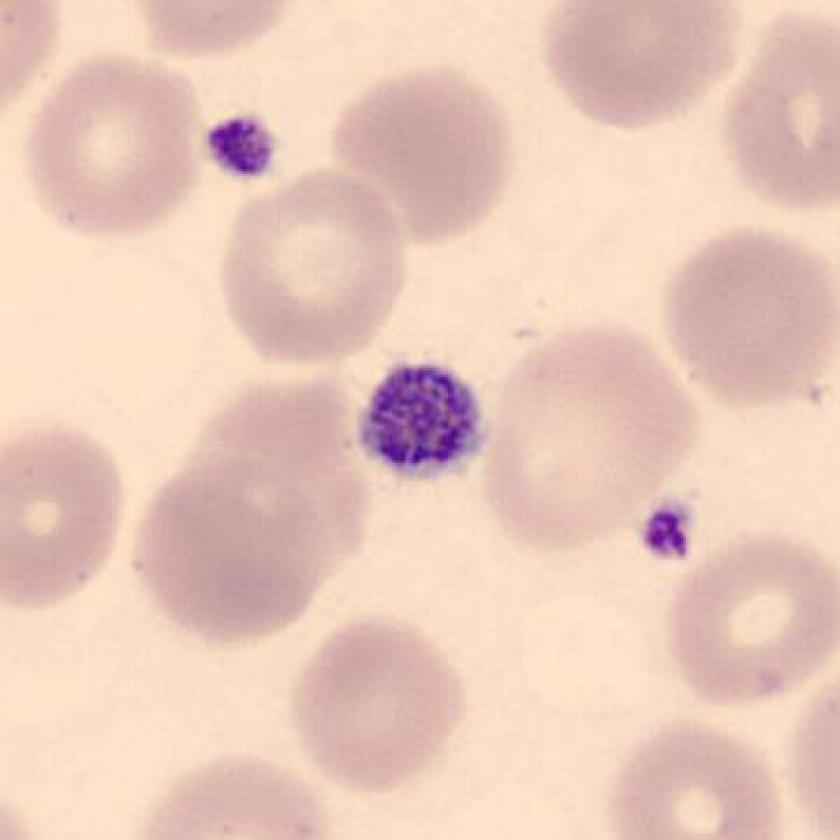platelets: (351, 355, 498, 485), (199, 105, 286, 193), (631, 499, 710, 570)
